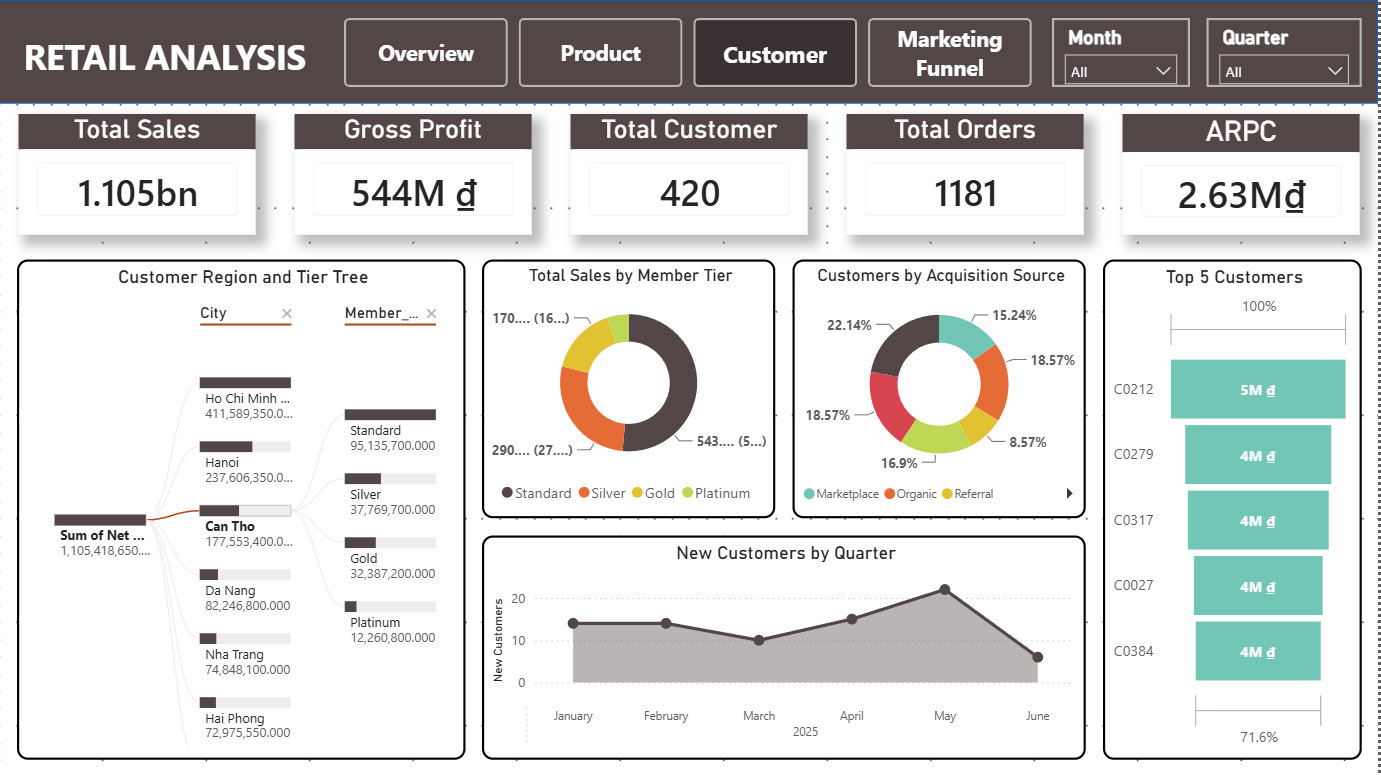

Layout of this report page (visuals, bound fields, positions):
{"tool":"powerbi","page":{"name":"Customer","canvas":[1280,720],"ordinal":2},"visuals":[{"type":"shape","box":[0,0,1280,96],"z":0},{"type":"cardVisual","title":"Total Sales","fields":{"Data":["Sum(Sales.Net_Sales)"]},"box":[17.8,105.7,220,112],"z":1000},{"type":"cardVisual","title":"Gross Profit","fields":{"Data":["Sum(Sales.Gross_Profit)"]},"box":[273.8,105.7,220,112],"z":2000},{"type":"cardVisual","title":"Total Customer","fields":{"Data":["Customers.Total Customers"]},"box":[529.8,105.7,220,112],"z":3000},{"type":"cardVisual","title":"Total Orders","fields":{"Data":["Sales.Total Orders"]},"box":[785.8,105.7,220,112],"z":4000},{"type":"pageNavigator","box":[320,16,640,64],"z":5000},{"type":"textbox","box":[0,25,304,96],"z":6000},{"type":"funnel","title":"Top 5 Customers","fields":{"Category":["Sales.Customer_ID"],"Y":["Sum(Sales.Gross Profit)"]},"box":[1024,240,240,464],"z":7000},{"type":"donutChart","title":"Total Sales by Member Tier","fields":{"Y":["Sum(Sales.Net Sales)"],"Category":["Customers.Member_Tier"]},"box":[448,240,272,240],"z":8000},{"type":"decompositionTreeVisual","title":"Customer Region and Tier Tree","fields":{"ExplainBy":["Customers.City","Customers.Member_Tier"],"Analyze":["Sum(Sales.Net Sales)"]},"box":[16,240,416,464],"z":9000},{"type":"donutChart","title":" Customers by Acquisition Source","fields":{"Series":["Customers.Acquisition_Source"],"Y":["Customers.Total Customers"]},"box":[736,240,272,240],"z":10000},{"type":"areaChart","title":"New Customers by Quarter","fields":{"Category":["DimDate.Year Hierarchy.Year","DimDate.Month"],"Y":["Customers.New Customers"]},"box":[448,496,560,208],"z":11000},{"type":"slicer","fields":{"Values":["DimDate.Month"]},"box":[976,16,128,64],"z":12000},{"type":"slicer","fields":{"Values":["DimDate.Quarter"]},"box":[1120,16,144,64],"z":13000},{"type":"cardVisual","title":"ARPC","fields":{"Data":["Customers.ARPC"]},"box":[1041.8,105.7,220,112],"z":14000}]}

Visuals, with their boxes in screenshot pixels (x1, y1, x2, y2), scaled from the page's 1280x720 canvas onto the 1381x775 screenshot:
shape: x1=0 y1=0 x2=1380 y2=103
"Total Sales" cardVisual: x1=19 y1=114 x2=257 y2=234
"Gross Profit" cardVisual: x1=295 y1=114 x2=533 y2=234
"Total Customer" cardVisual: x1=572 y1=114 x2=809 y2=234
"Total Orders" cardVisual: x1=848 y1=114 x2=1085 y2=234
pageNavigator: x1=345 y1=17 x2=1036 y2=86
textbox: x1=0 y1=27 x2=328 y2=130
"Top 5 Customers" funnel: x1=1105 y1=258 x2=1364 y2=758
"Total Sales by Member Tier" donutChart: x1=483 y1=258 x2=777 y2=517
"Customer Region and Tier Tree" decompositionTreeVisual: x1=17 y1=258 x2=466 y2=758
" Customers by Acquisition Source" donutChart: x1=794 y1=258 x2=1088 y2=517
"New Customers by Quarter" areaChart: x1=483 y1=534 x2=1088 y2=758
slicer - DimDate.Month: x1=1053 y1=17 x2=1191 y2=86
slicer - DimDate.Quarter: x1=1208 y1=17 x2=1364 y2=86
"ARPC" cardVisual: x1=1124 y1=114 x2=1361 y2=234
